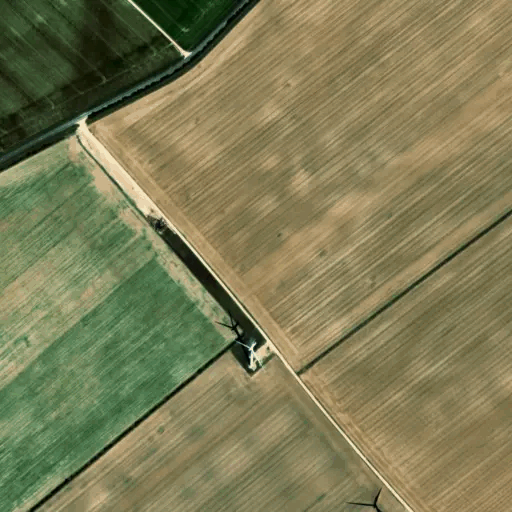wt: (210, 296, 270, 382)
